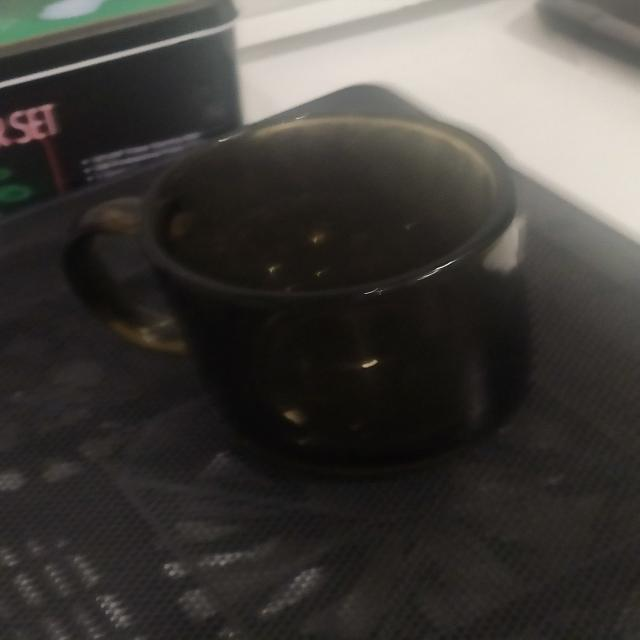cups: (58, 85, 529, 469)
